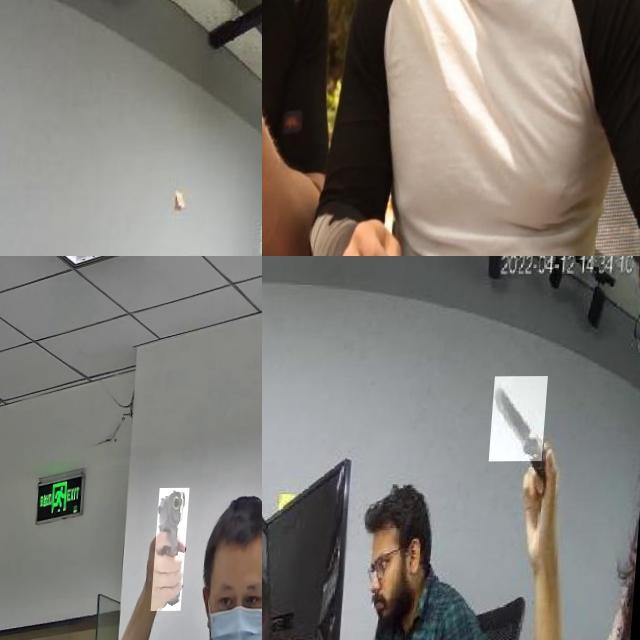-: (492, 377, 550, 462), (262, 136, 303, 256)
gun-knife-thesis - v11 Yolov5 augmented: (158, 488, 196, 612)
